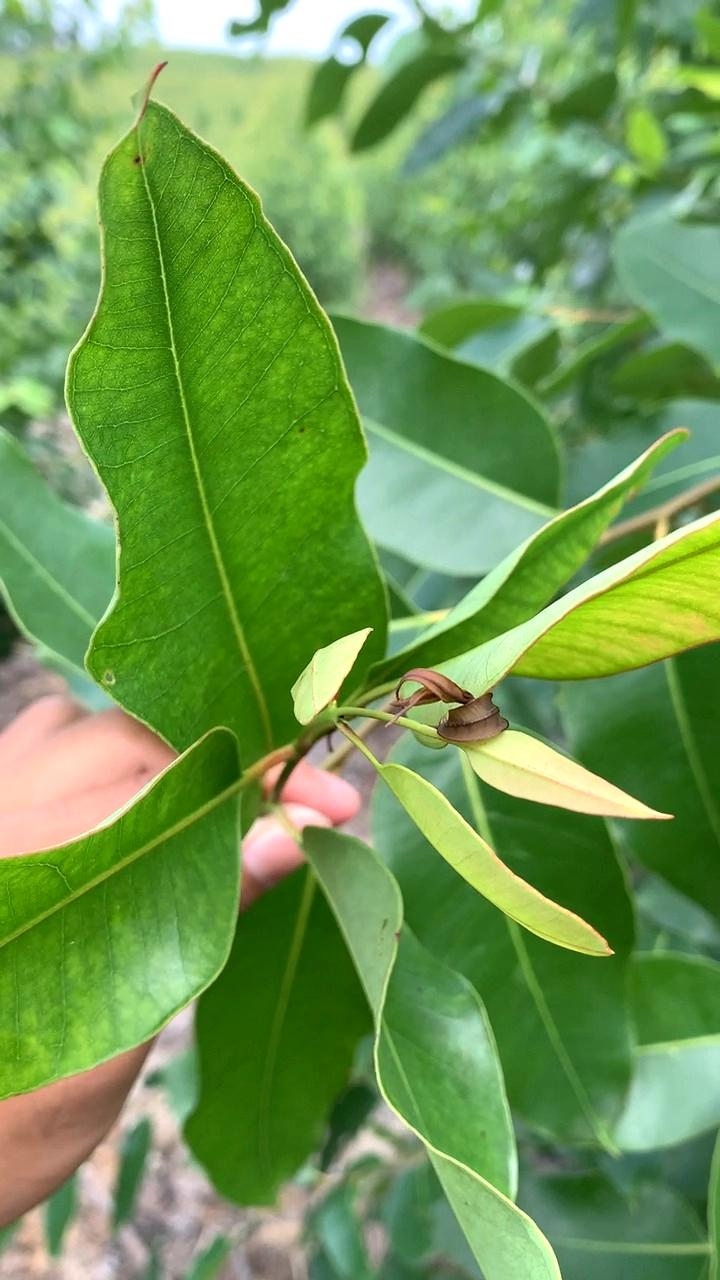Helopeltis-Withered Sprout: (373, 643, 535, 799)
